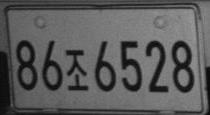2: (145, 39, 169, 93)
5: (120, 40, 142, 91)
6: (40, 40, 63, 90), (94, 40, 116, 92)
8: (170, 39, 195, 93), (15, 38, 38, 91)
조: (65, 49, 89, 90)
